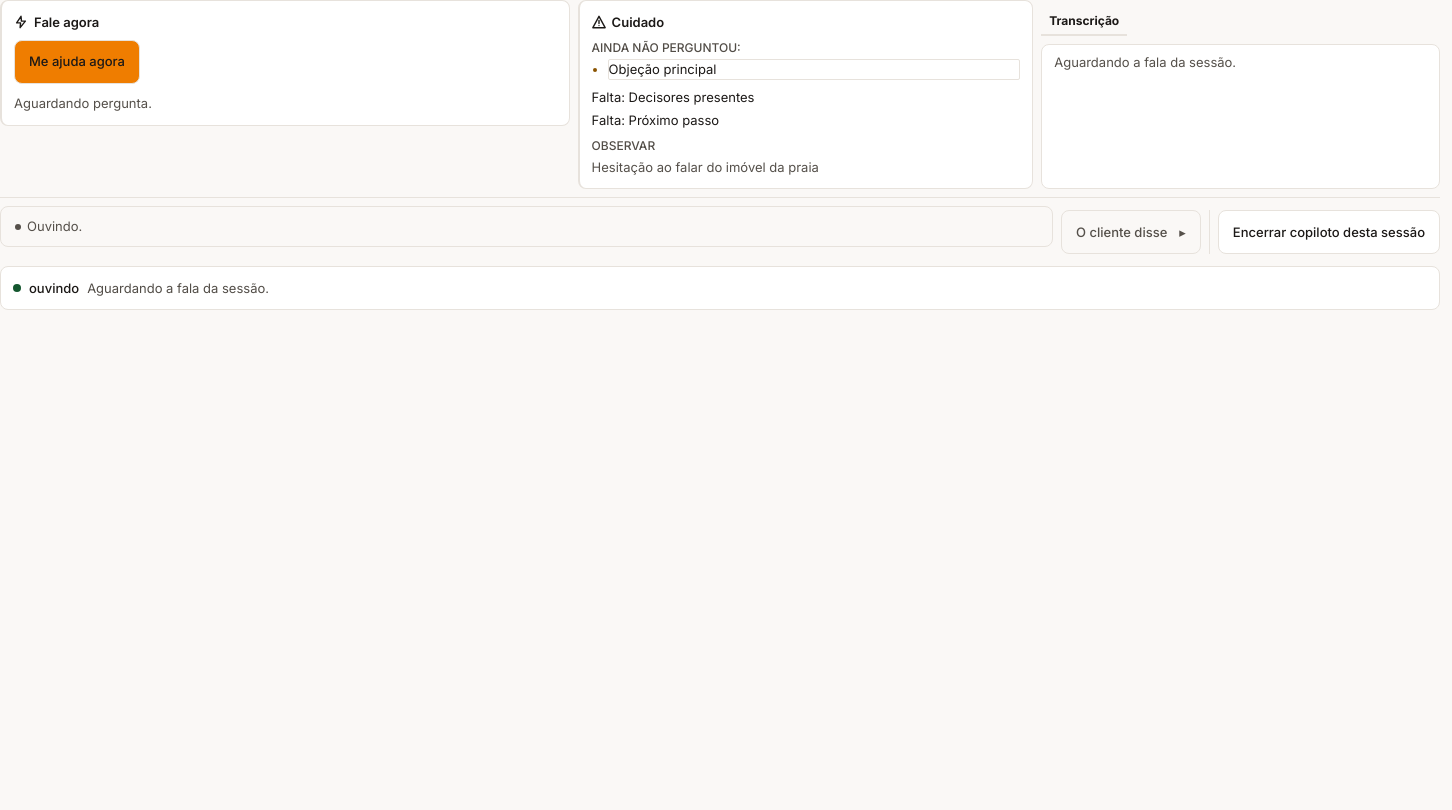
it: PainelCopiloto — Fatia 2, botão Me ajuda agora › desvio_sugerido tem botão Ignorar ao lado, que some a sugestão sem navegar
Click the button "Me ajuda agora": (77, 62) 14,40 -> 140,84
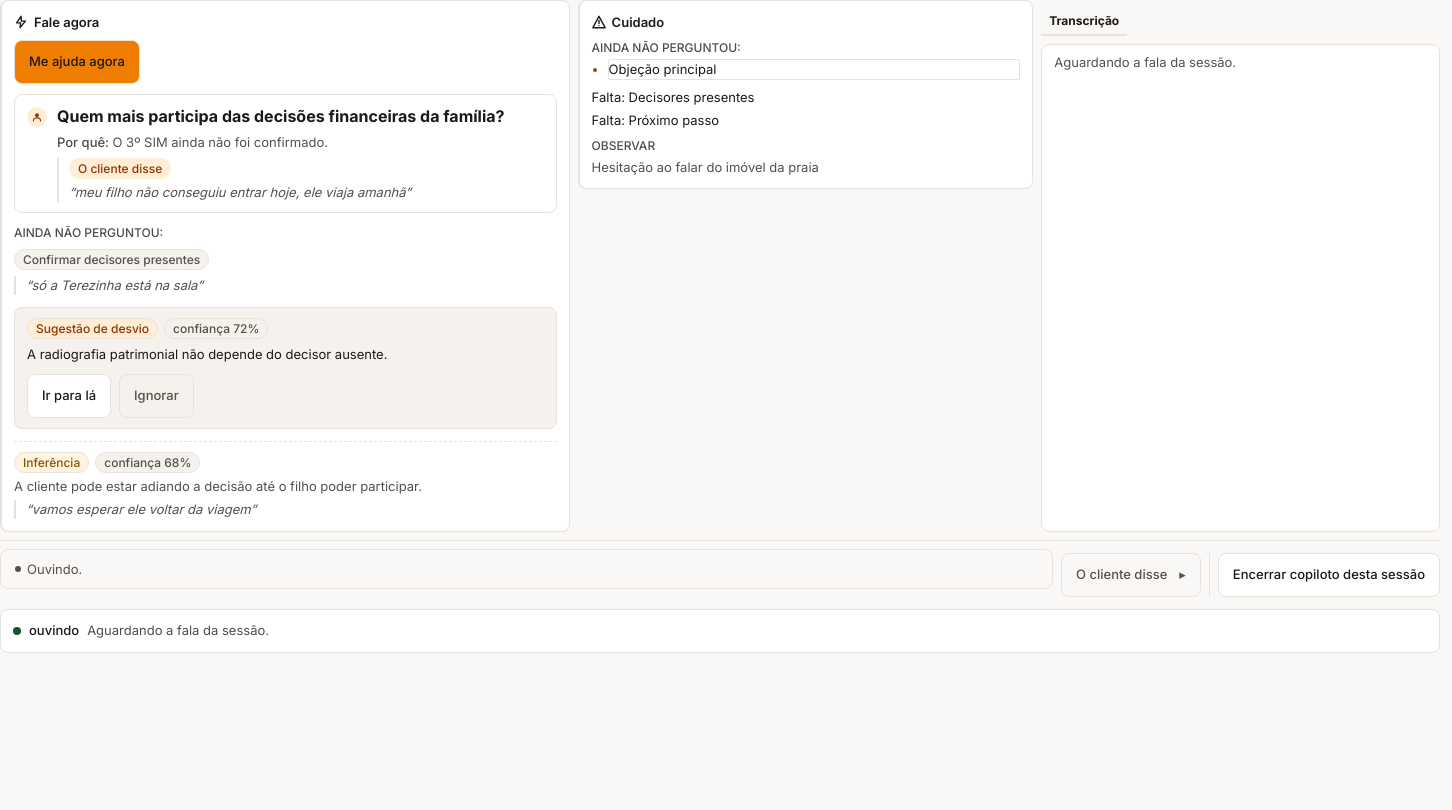
Now the text "Sugestão de desvio" is shown, box 27,318 -> 158,339
Click the button "Ignorar": (156, 396) 119,374 -> 194,418
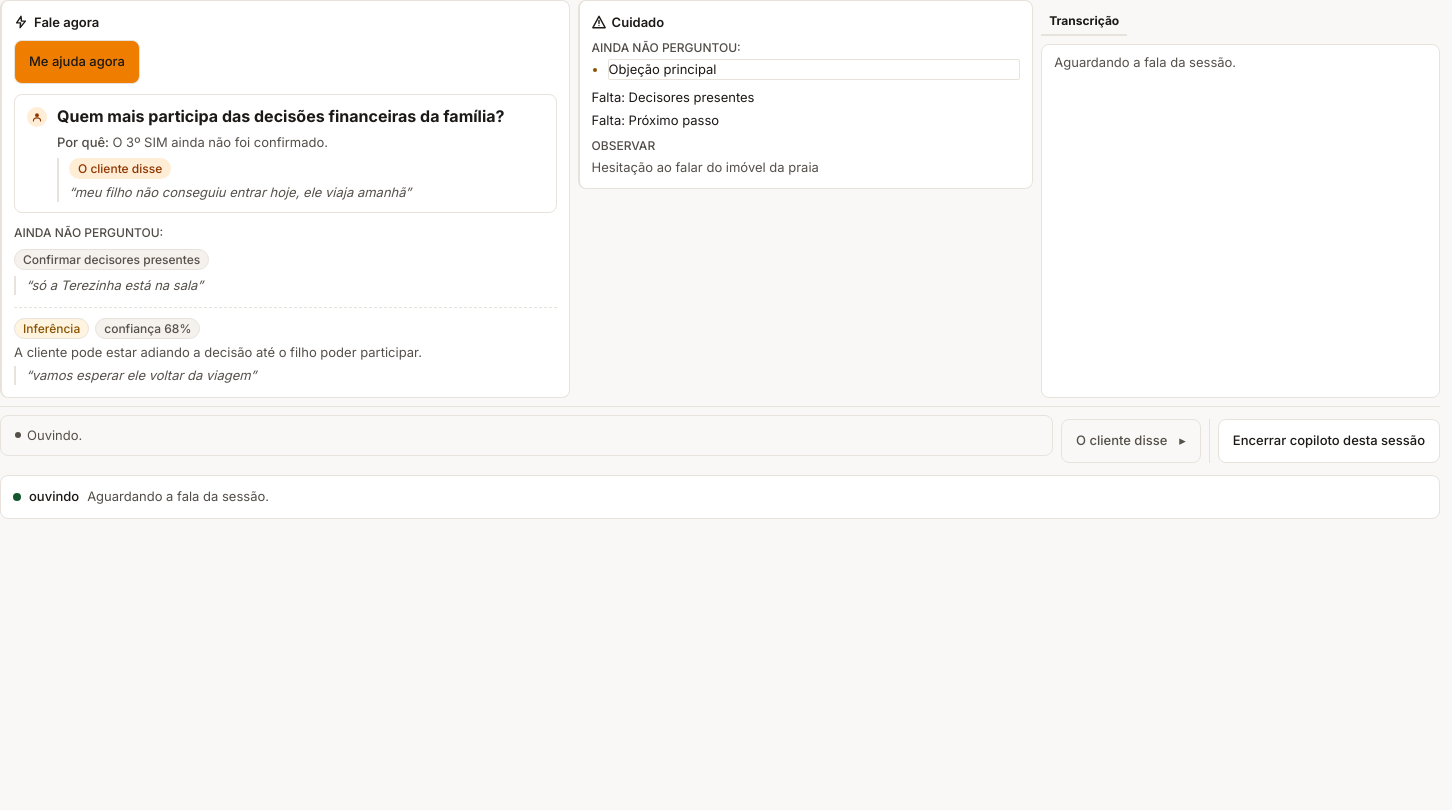
Now the text "Sugestão de desvio" is gone
